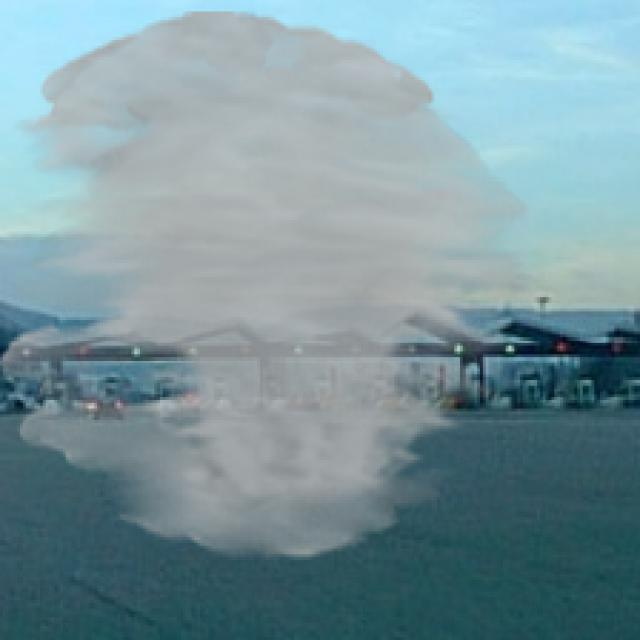smoke: (0, 11, 532, 560)
